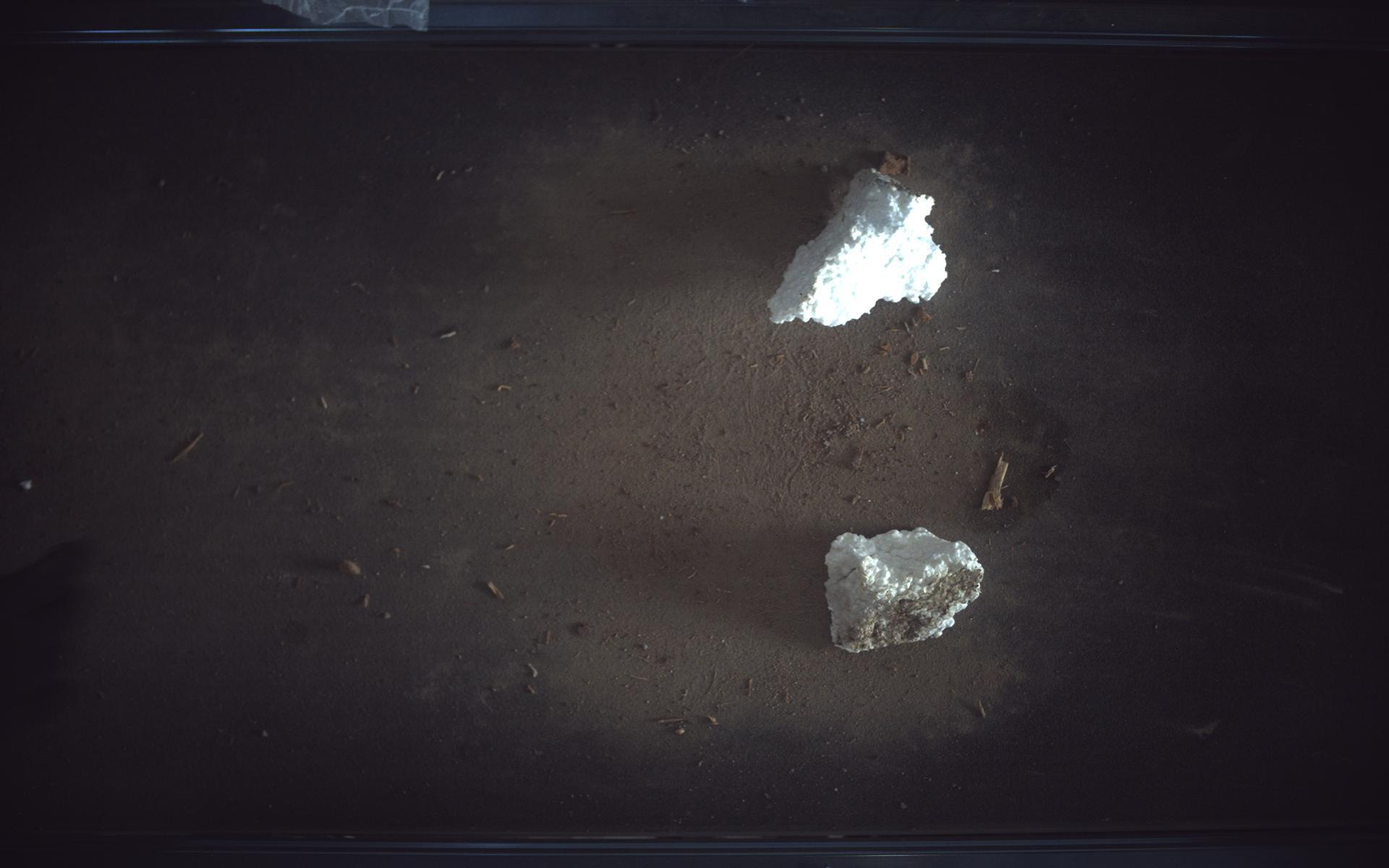foam: (770, 168, 949, 326), (827, 528, 986, 653)
